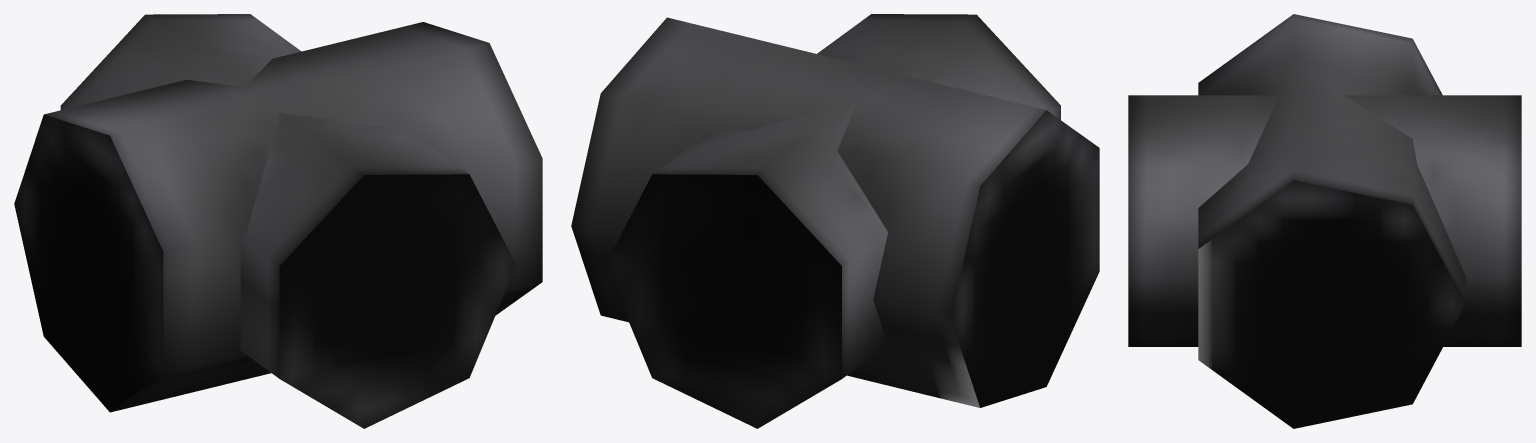
File: r_talus.dae
The picture shows the model from 3 angles, left to right: view 1: azimuth 30°, elevation 25°; view 2: azimuth 150°, elevation 25°; view 3: azimuth 270°, elevation 25°; orthographic projection. The views are drawn at different scales.
Visible parts, largest first — view 1: r_talus; view 2: r_talus; view 3: r_talus.
Boxes of the visible parts, box(x1,y1,x2,y2) form: r_talus: box(14, 14, 542, 428); r_talus: box(571, 14, 1099, 428); r_talus: box(1128, 14, 1521, 428).
Size of the model in its own units: 0.0327 by 0.0327 by 0.0228.
Materials: 1 (1 with a texture image).
